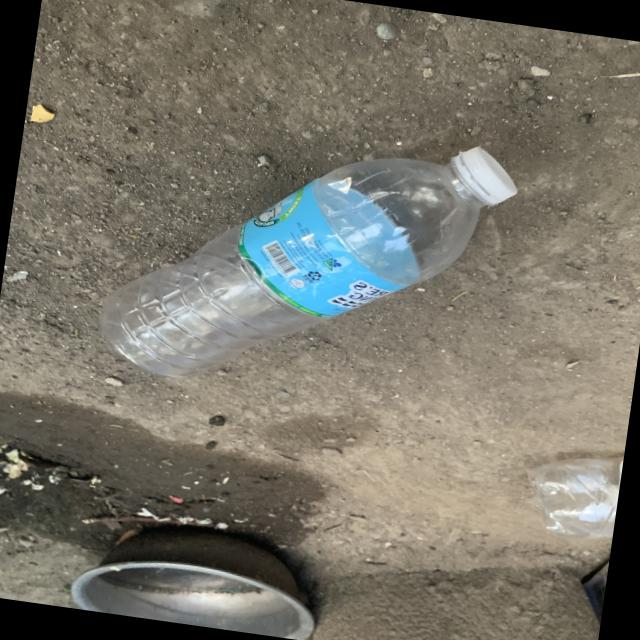Bottle: (99, 147, 517, 377)
